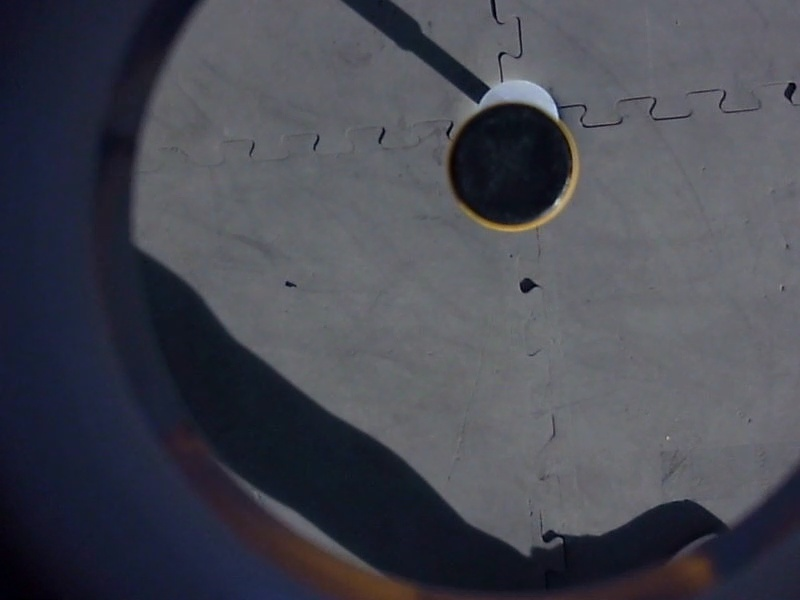tip: (435, 97, 588, 240)
